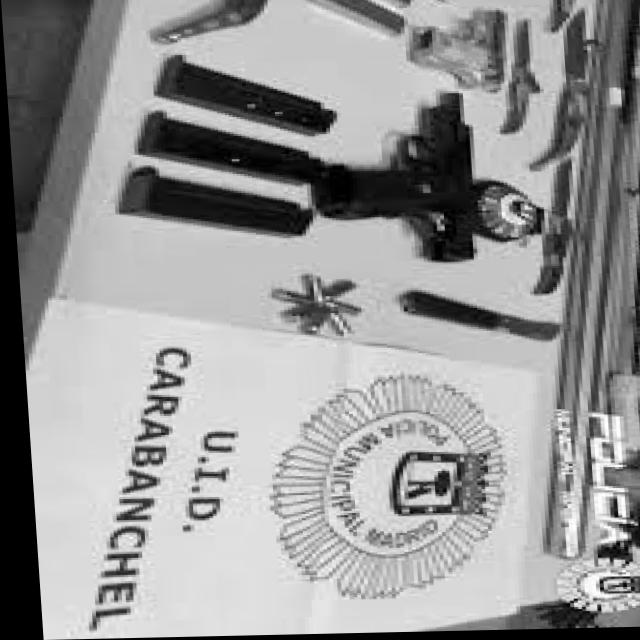handgun: (306, 95, 471, 267), (406, 12, 512, 97)
